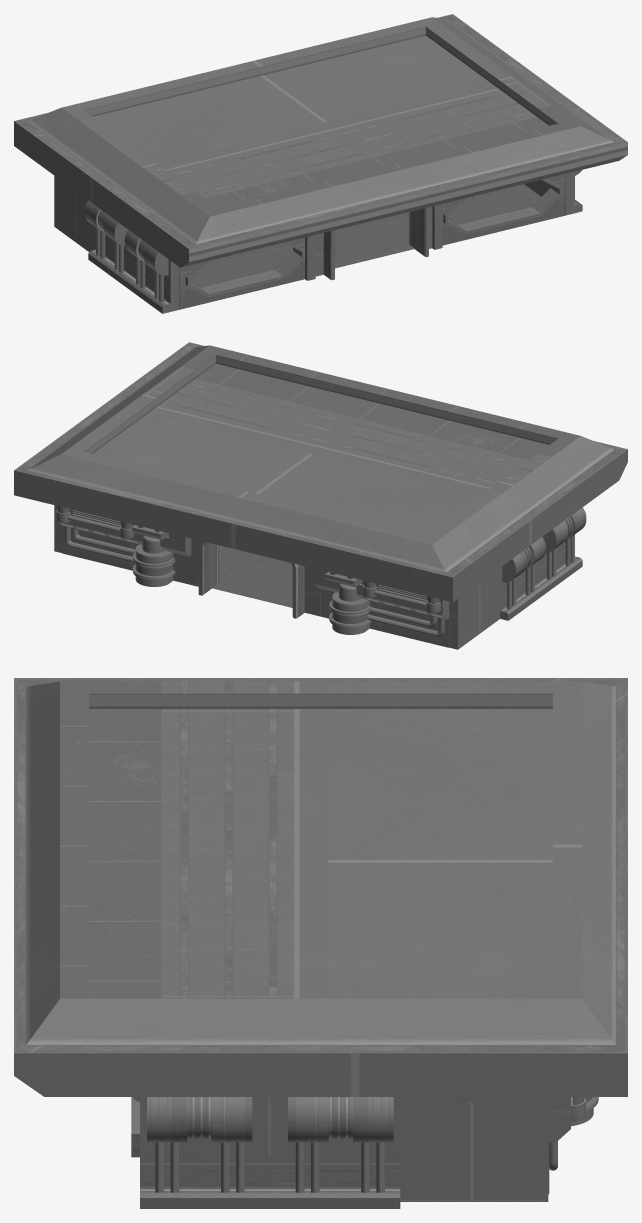
File: SM_house_02_open.glb
3 renders of one model, top to bottom at view 1: azimuth 30°, elevation 25°; view 2: azimuth 150°, elevation 25°; view 3: azimuth 270°, elevation 25°, orthographic. The views are drawn at different scales.
Parts seen in each view (by area): view 1: SM_house_02_open; view 2: SM_house_02_open; view 3: SM_house_02_open.
Boxes of the visible parts, <box> form: SM_house_02_open: <box>14,14,627,313</box>; SM_house_02_open: <box>14,342,627,649</box>; SM_house_02_open: <box>14,678,627,1208</box>.
Size of the model in its own units: 27.28 by 6.41 by 18.86.
3 materials, 2 textured.
